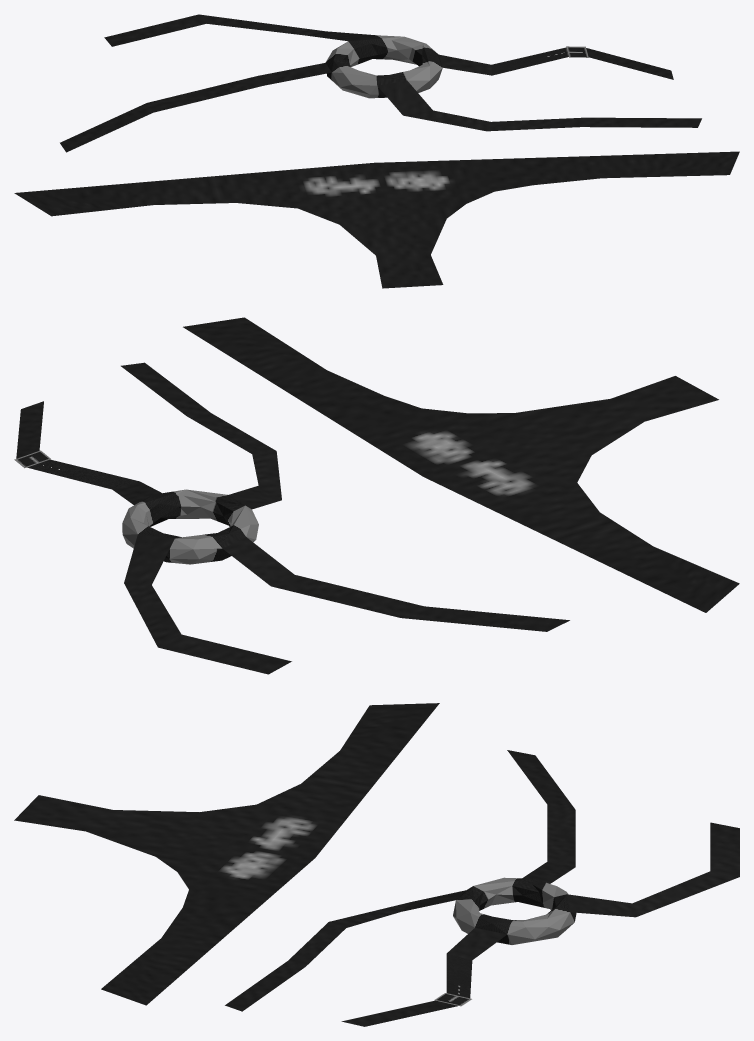
Rendered from Kinky_Kelly_Ground.FBX.
3 renders of one model, top to bottom at view 1: azimuth 30°, elevation 25°; view 2: azimuth 150°, elevation 25°; view 3: azimuth 270°, elevation 25°, orthographic. The views are drawn at different scales.
Parts seen in each view (by area): view 1: Bikini_Ground; view 2: Bikini_Ground; view 3: Bikini_Ground.
Part boxes in pixels (x1=…): Bikini_Ground: x1=14, y1=14, x2=739, y2=288; Bikini_Ground: x1=14, y1=317, x2=739, y2=674; Bikini_Ground: x1=14, y1=703, x2=739, y2=1026.
Size of the model in its own units: 49.91 by 1.64 by 47.79.
